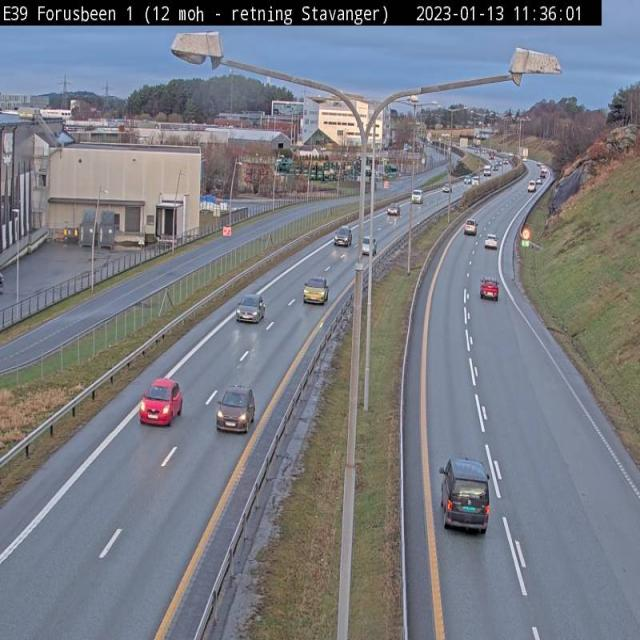car: (439, 455, 492, 534), (205, 384, 256, 434), (138, 377, 183, 427), (236, 294, 266, 323), (303, 276, 329, 306), (303, 276, 329, 305), (479, 277, 499, 301), (333, 227, 352, 247), (464, 219, 478, 235), (484, 235, 499, 249)
